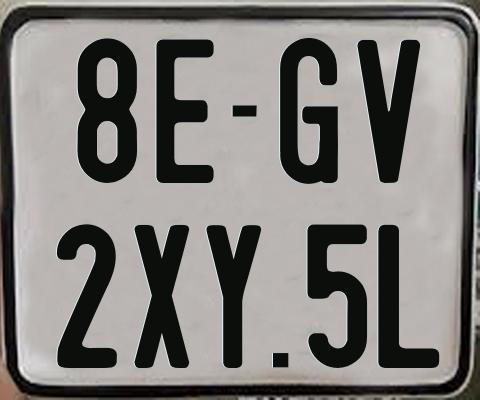2: (56, 223, 120, 373)
5: (304, 223, 364, 373)
8: (74, 35, 135, 184)
E: (155, 38, 215, 183)
G: (280, 36, 344, 185)
L: (378, 224, 440, 369)
V: (356, 39, 419, 184)
X: (133, 222, 187, 370)
Y: (204, 224, 260, 369)
